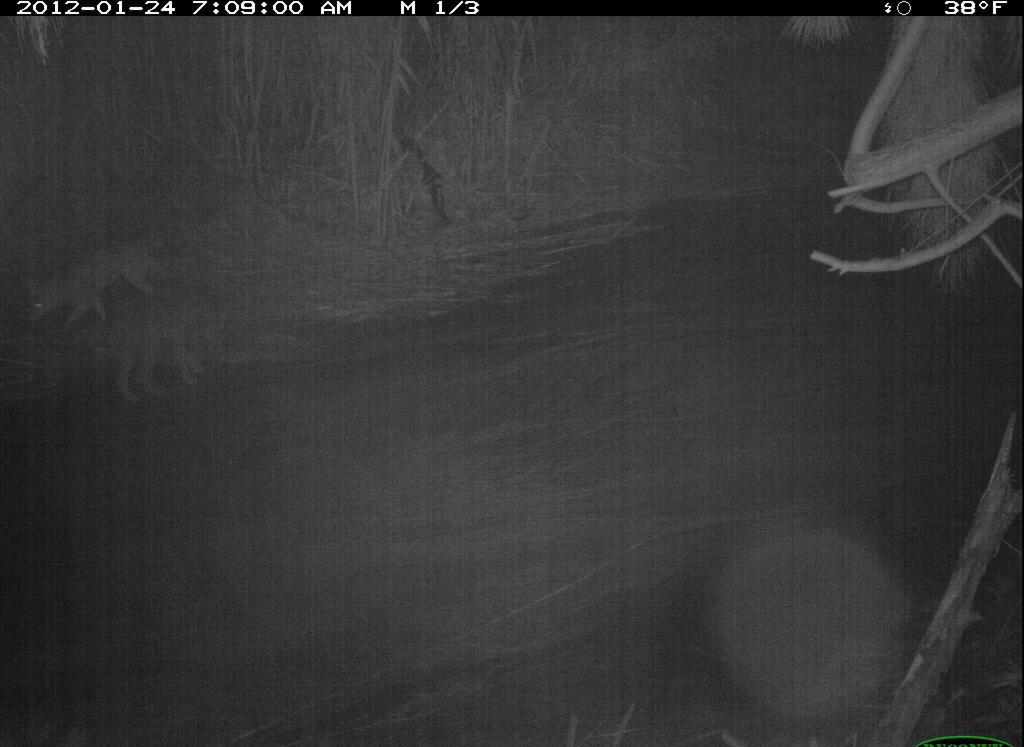coyote: (21, 204, 200, 343)
